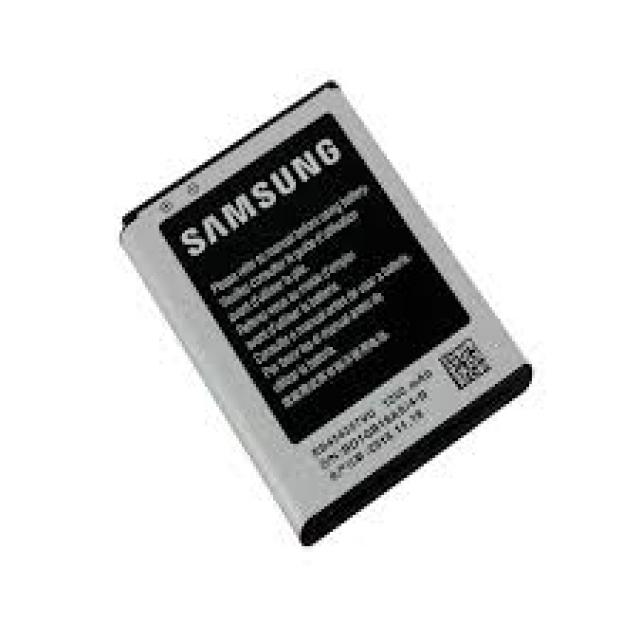non-organic waste: (124, 78, 543, 548)
